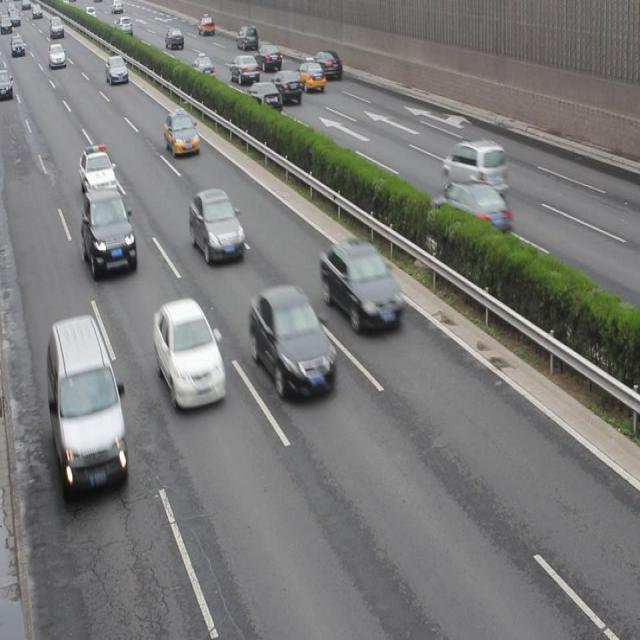car: (248, 284, 334, 398), (153, 298, 226, 411), (320, 237, 400, 334), (80, 184, 137, 279), (434, 179, 511, 246), (189, 188, 245, 264), (443, 139, 507, 193), (79, 147, 116, 197), (163, 110, 199, 160), (241, 80, 280, 119), (268, 68, 302, 106), (310, 48, 342, 82), (293, 59, 325, 93), (228, 53, 259, 88)
truck: (46, 316, 126, 494)
